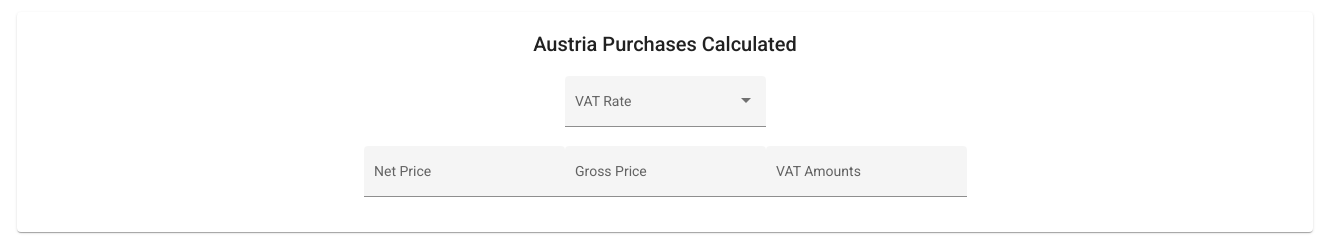
Test: AppComponent › should calculated grossPrice and amountsVAT by netPrice and rateVAT
Click the dropdown with id "rateVAT": x=746, y=101 [741, 98, 751, 103]
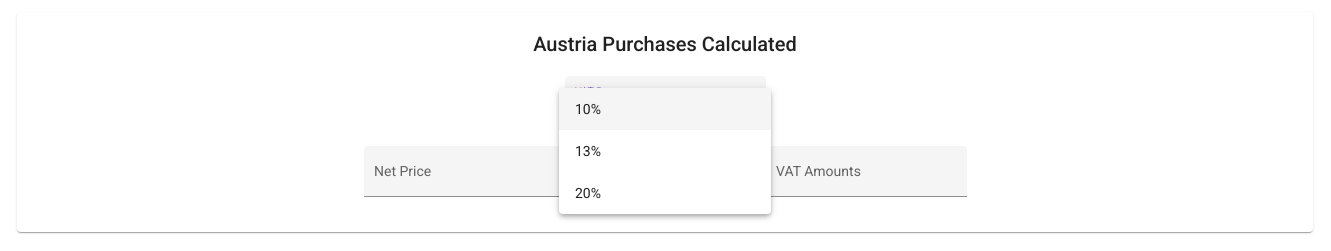
Click the text "10%": x=588, y=109 [575, 101, 601, 117]
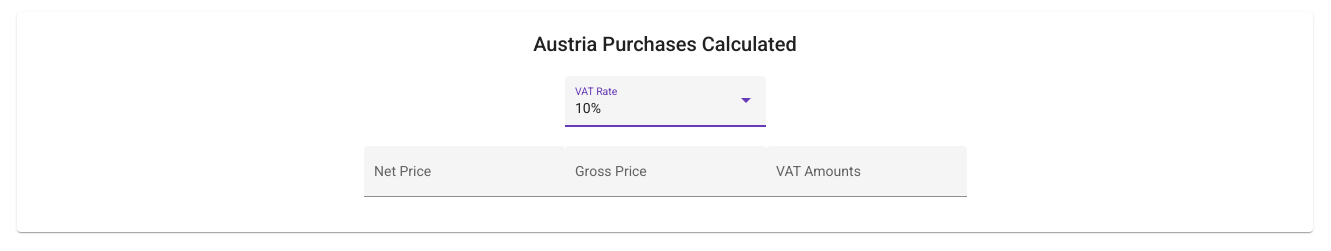
In the field with id "netPrice": x=464, y=179 [374, 171, 554, 187], type "100"
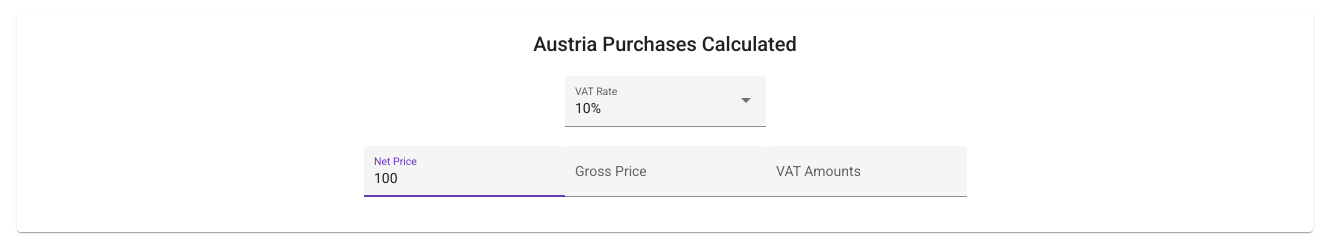
Click the field with id "grossPrice": x=665, y=179 [575, 171, 755, 187]
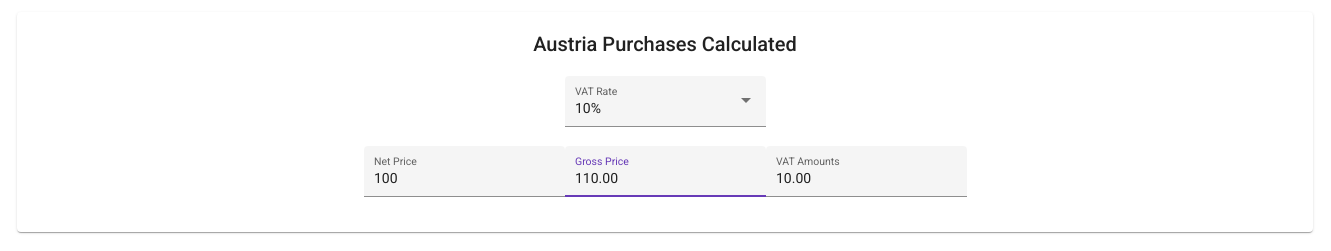
Now the field with id "grossPrice" holds "110.00", box [575, 171, 755, 187]
Now the field with id "amountsVAT" holds "10.00", box [776, 171, 956, 187]
